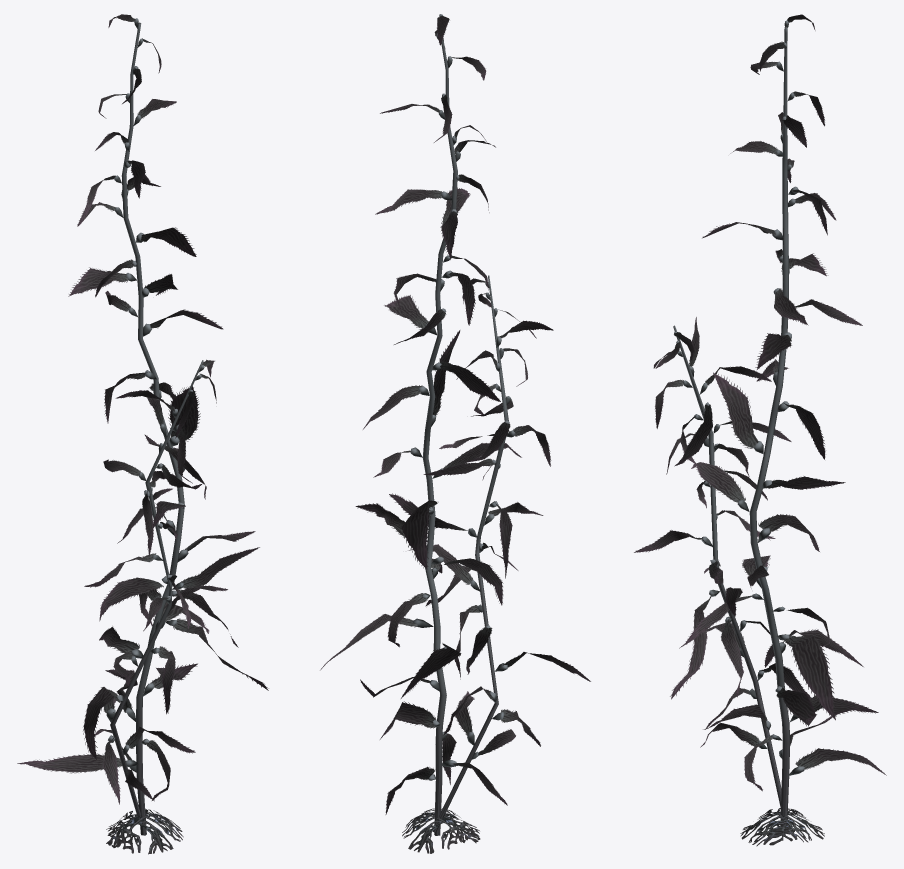
The model's file is giant-kelp-g.fbx.
3 renders of one model, left to right at view 1: azimuth 30°, elevation 25°; view 2: azimuth 150°, elevation 25°; view 3: azimuth 270°, elevation 25°, orthographic.
Visible parts, largest first — view 1: kelp_giant_g_leaves_lod0, kelp_giant_g_stem_lod0; view 2: kelp_giant_g_leaves_lod0, kelp_giant_g_stem_lod0; view 3: kelp_giant_g_leaves_lod0, kelp_giant_g_stem_lod0.
Boxes of the visible parts, bbox=[...] form: kelp_giant_g_leaves_lod0: bbox=[17, 14, 268, 854]; kelp_giant_g_stem_lod0: bbox=[106, 18, 204, 835]; kelp_giant_g_leaves_lod0: bbox=[320, 15, 590, 853]; kelp_giant_g_stem_lod0: bbox=[410, 14, 514, 835]; kelp_giant_g_leaves_lod0: bbox=[634, 14, 886, 846]; kelp_giant_g_stem_lod0: bbox=[673, 20, 804, 834].
Size of what is drawn, in the model's own units: 171 by 631 by 182.
